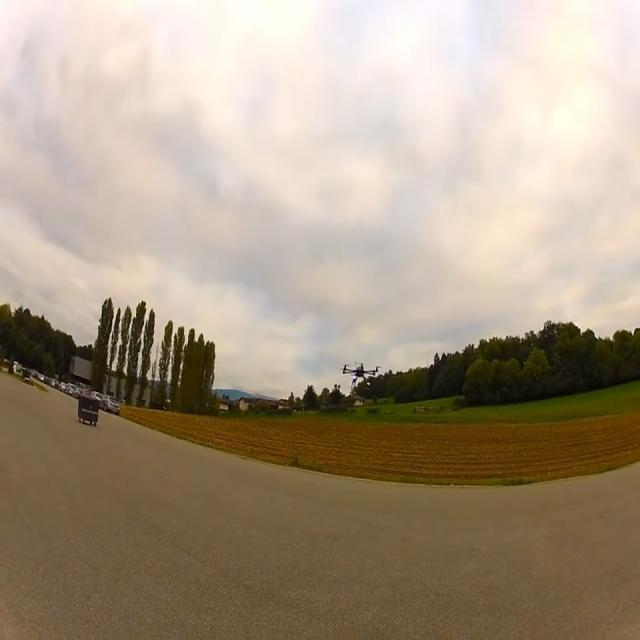drone: (340, 361, 380, 389)
